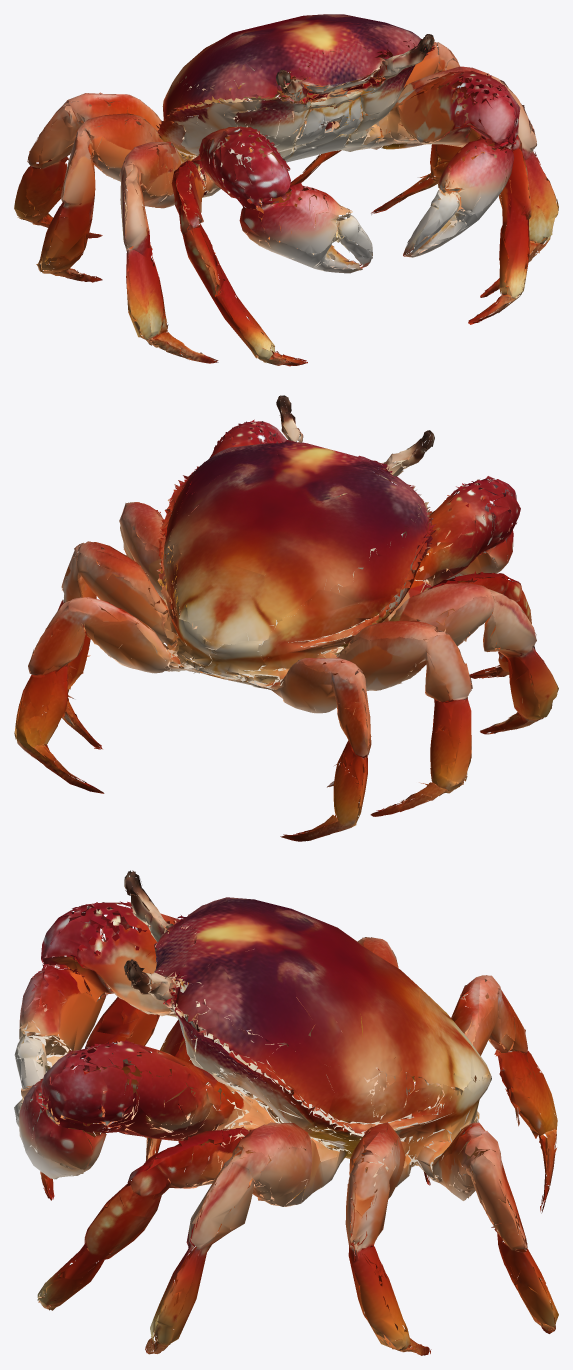
The model's file is crab.glb.
The picture shows the model from 3 angles, top to bottom: view 1: azimuth 30°, elevation 25°; view 2: azimuth 150°, elevation 25°; view 3: azimuth 270°, elevation 25°; orthographic projection. The views are drawn at different scales.
Parts seen in each view (by area): view 1: model; view 2: model; view 3: model.
Part boxes in pixels (box(x1,y1,x2,y2)): model: box(14, 14, 558, 366); model: box(14, 395, 558, 841); model: box(14, 870, 558, 1355).
Bounding box in the file's own units: 1.36 × 0.8582 × 1.2.
Materials: 1 (1 with a texture image).
